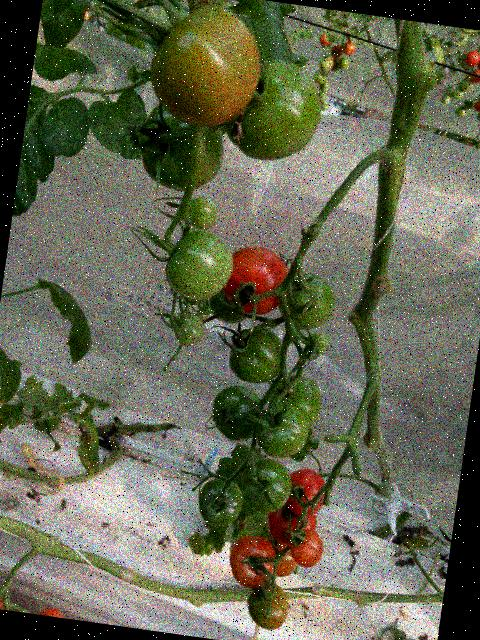l_fully_ripened: (219, 242, 293, 318), (226, 532, 280, 592), (283, 466, 329, 520), (264, 502, 318, 548), (34, 603, 66, 619), (0, 596, 10, 611)
l_green: (221, 52, 328, 167), (133, 103, 229, 197), (162, 227, 238, 305), (275, 269, 339, 335), (250, 399, 312, 461), (227, 323, 285, 386), (208, 382, 266, 445), (237, 454, 295, 516), (265, 371, 325, 429), (195, 475, 247, 530), (206, 289, 252, 326), (186, 195, 222, 232), (172, 312, 207, 349), (305, 331, 332, 356)
l_half_ripened: (143, 0, 269, 135), (243, 578, 292, 632), (286, 526, 326, 570), (266, 540, 302, 579)
